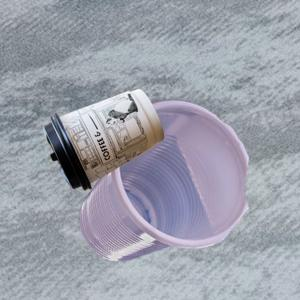cup: (44, 88, 164, 193)
